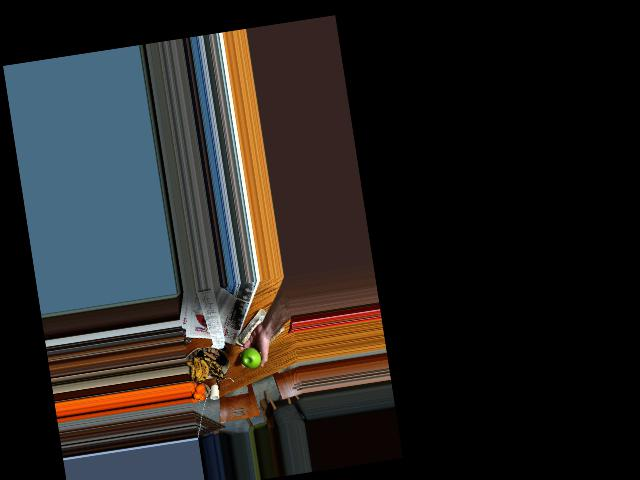apple: (237, 343, 265, 374)
